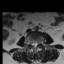CCS_normal: (34, 40, 36, 50)
LFS_stenosis: (37, 40, 39, 46)
LLS_normal: (36, 40, 37, 48)
RFS_normal: (30, 41, 32, 47)
RLS_normal: (32, 40, 34, 49)
